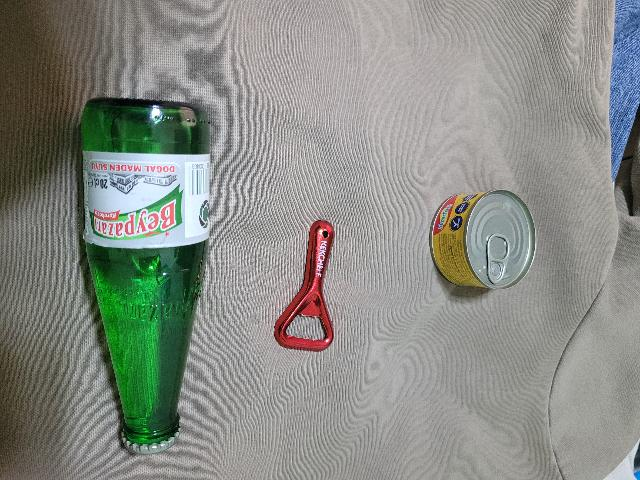Cam: (75, 95, 213, 445)
Metal: (426, 184, 535, 297), (272, 218, 345, 354), (106, 429, 182, 460)
